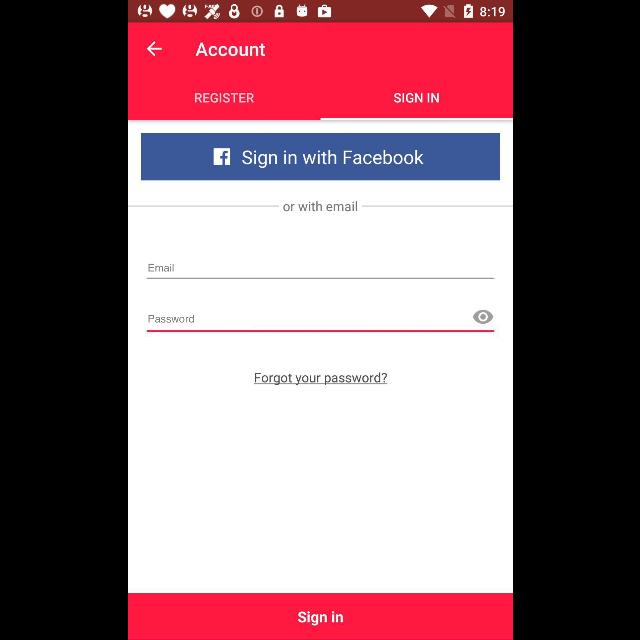icon: (472, 310, 492, 324), (146, 41, 162, 57)
input: (146, 310, 494, 332), (146, 263, 494, 279)
multitab: (128, 79, 512, 121)
text: (253, 372, 387, 386), (195, 43, 265, 57), (283, 200, 357, 212), (194, 93, 252, 103), (393, 93, 439, 103), (148, 315, 194, 323), (147, 263, 173, 271)
textbutton: (128, 594, 512, 640), (141, 134, 499, 180)
toolbar: (128, 23, 512, 78)
uppertaskbar: (128, 1, 512, 23)
